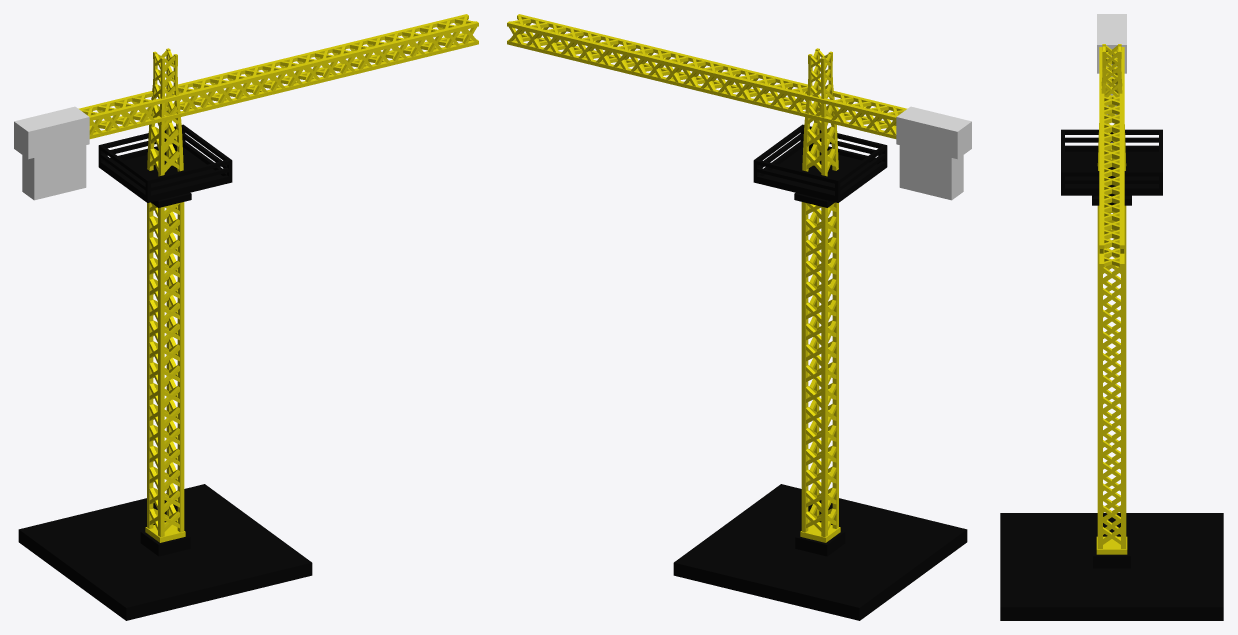
The model's file is Crane2.fbx.
3 renders of one model, left to right at view 1: azimuth 30°, elevation 25°; view 2: azimuth 150°, elevation 25°; view 3: azimuth 270°, elevation 25°, orthographic. The views are drawn at different scales.
Visible parts, largest first — view 1: Base, SpinnyBit; view 2: Base, SpinnyBit; view 3: Base, SpinnyBit.
Part boxes in pixels (<box>): Base: <box>18,202,312,620</box>; SpinnyBit: <box>14,14,478,207</box>; Base: <box>673,202,967,620</box>; SpinnyBit: <box>507,14,971,207</box>; Base: <box>1000,205,1223,620</box>; SpinnyBit: <box>1061,14,1162,267</box>.
Size of the model in its own units: 3640 by 3891 by 1499.
